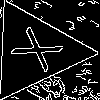X: (10, 26, 74, 78)
